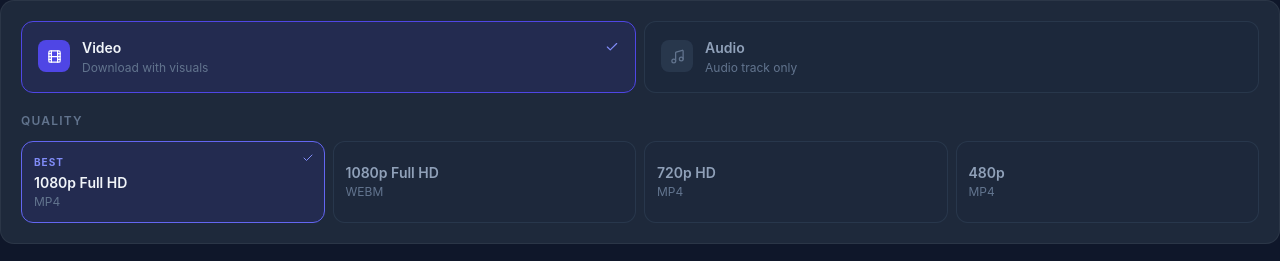
Test: FormatSelector — type toggle › switches back to video mode
Click the radio button labelled "Audio Audio track only" at (677, 56), box [644,21,1259,93]
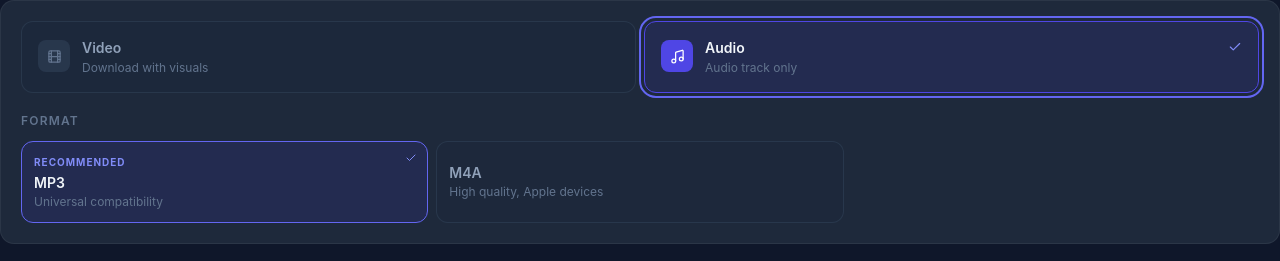
Click the radio button labelled "Video Download with visuals" at (54, 56), box [21,21,636,93]
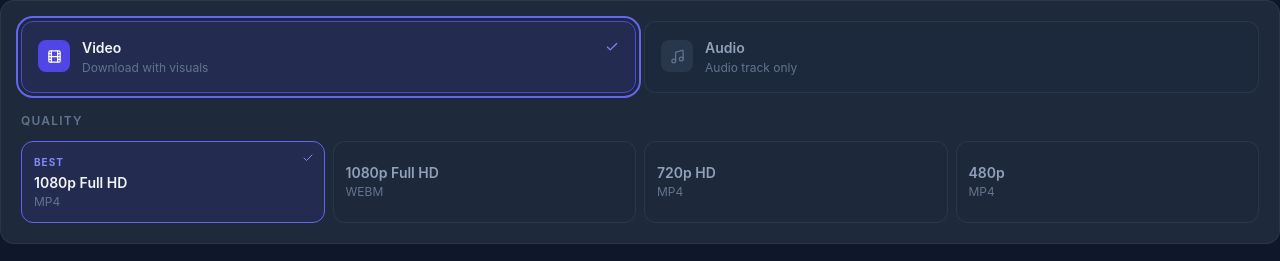
Now the radio button labelled "Video Download with visuals" is checked, box [21,21,636,93]
